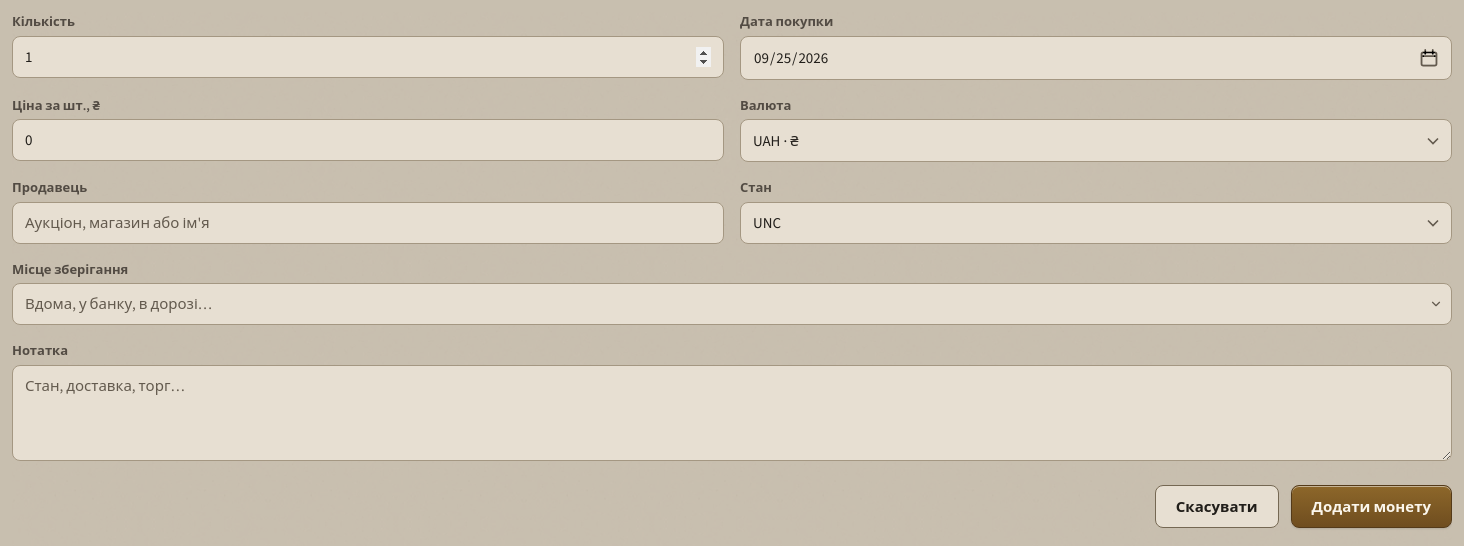
Test: PurchaseForm price entry › leaves a price that is already typed alone when the field is focused again
This screenshot has width=1464, height=546.
Type "250" into the field labelled "Ціна за шт., ₴". click: x=368, y=140
box: left=12, top=119, right=724, bottom=161
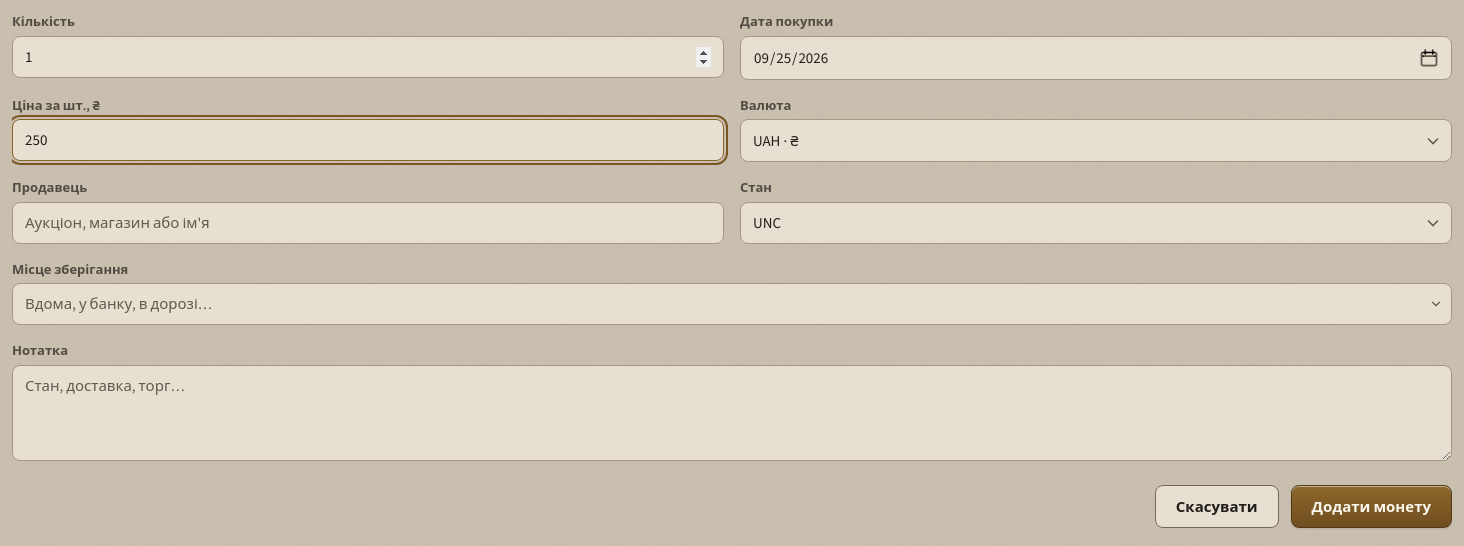
Click the field labelled "Продавець". click: x=368, y=222
box: left=12, top=202, right=724, bottom=244
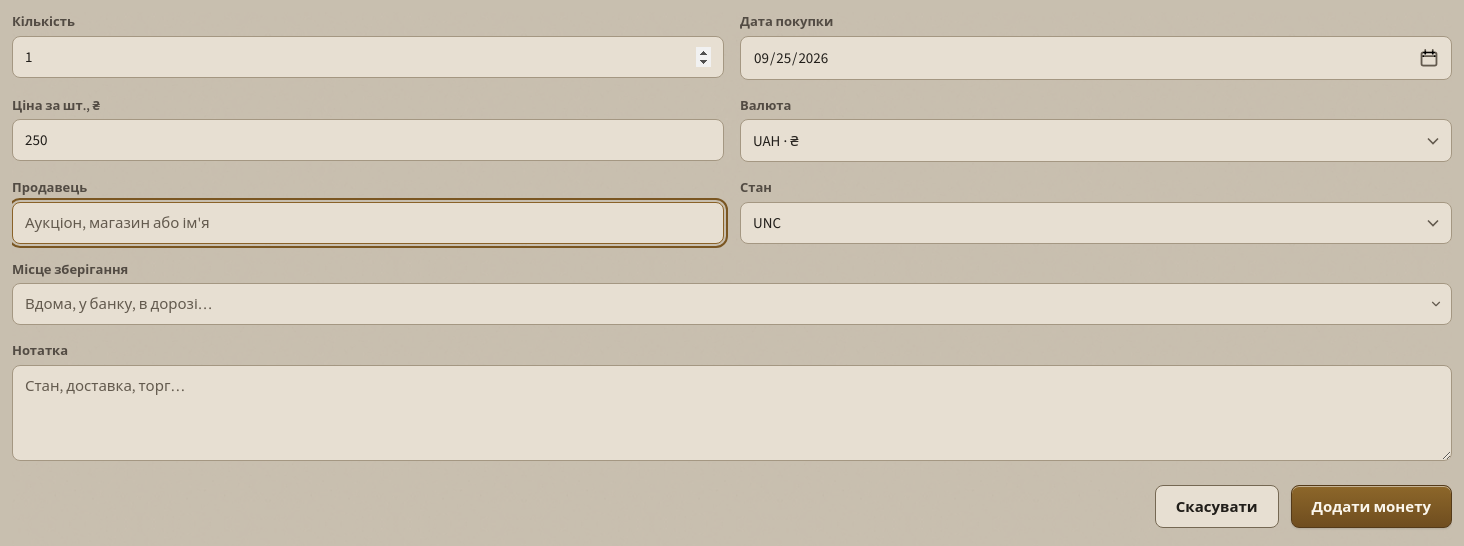
Type "0" into the field labelled "Ціна за шт., ₴". click: x=368, y=140
box: left=12, top=119, right=724, bottom=161
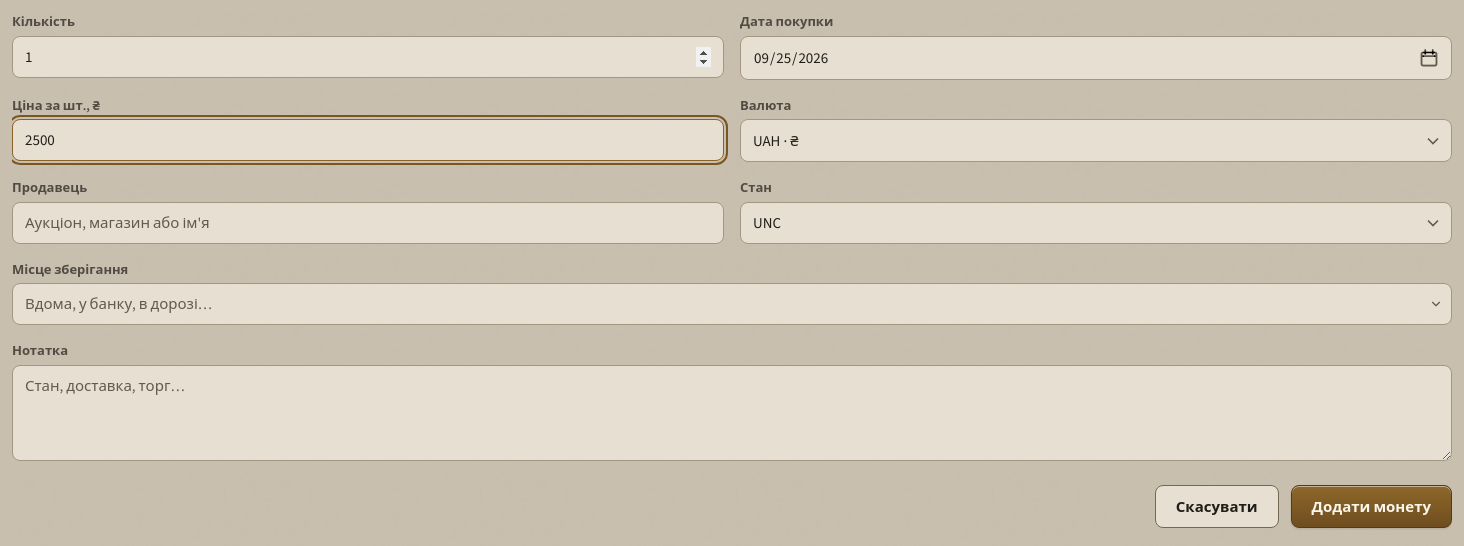
Check: the field labelled "Ціна за шт., ₴" holds "2500", box left=12, top=119, right=724, bottom=161
